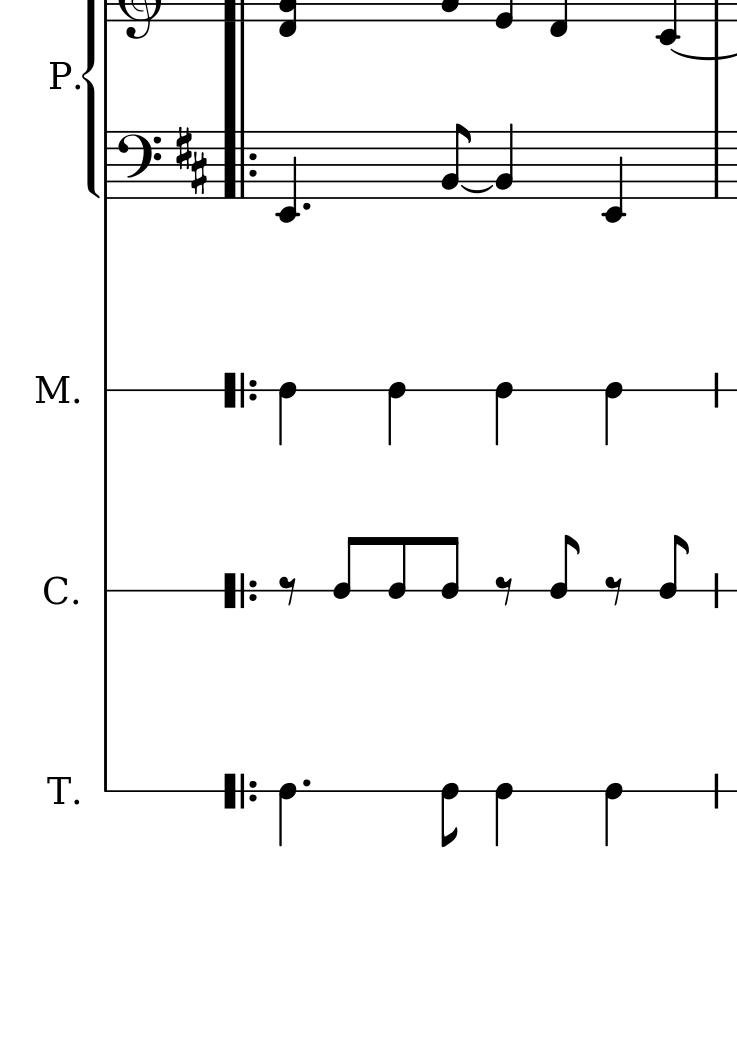4_-2: (274, 125, 300, 226), (600, 128, 626, 225)
4_2: (494, 122, 516, 201)
4_4: (386, 379, 406, 449), (494, 379, 514, 449), (277, 380, 297, 448), (277, 781, 297, 849), (494, 781, 514, 849), (603, 380, 622, 448), (603, 781, 622, 849)
8_2: (439, 122, 471, 200)
8_4: (549, 534, 582, 601), (657, 534, 690, 601), (334, 536, 361, 599), (440, 780, 460, 850), (441, 534, 461, 604), (388, 533, 408, 603)
D_S: (174, 126, 209, 196)
Fclef: (116, 129, 162, 200)
LeftRepeatSign: (222, 131, 260, 199), (221, 371, 257, 411), (222, 571, 258, 611), (223, 771, 259, 811)
Rests8: (603, 574, 626, 607), (494, 574, 517, 606), (278, 574, 300, 607)
Single_barline: (708, 131, 724, 199), (100, 131, 114, 199)
Slur: (459, 180, 497, 194)
dot: (300, 200, 313, 215)
